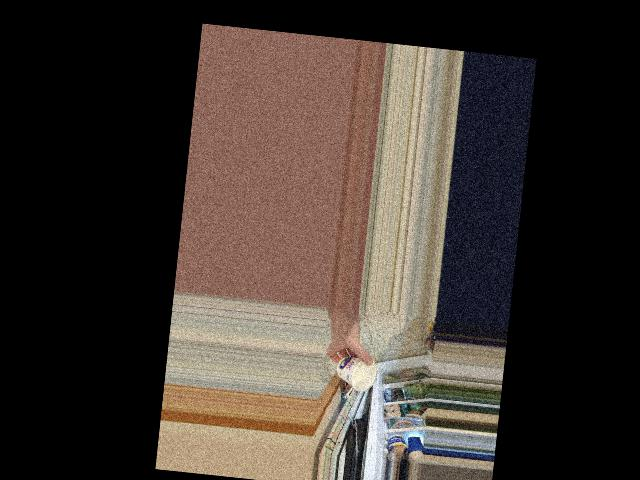cotage: (336, 356, 371, 389)
